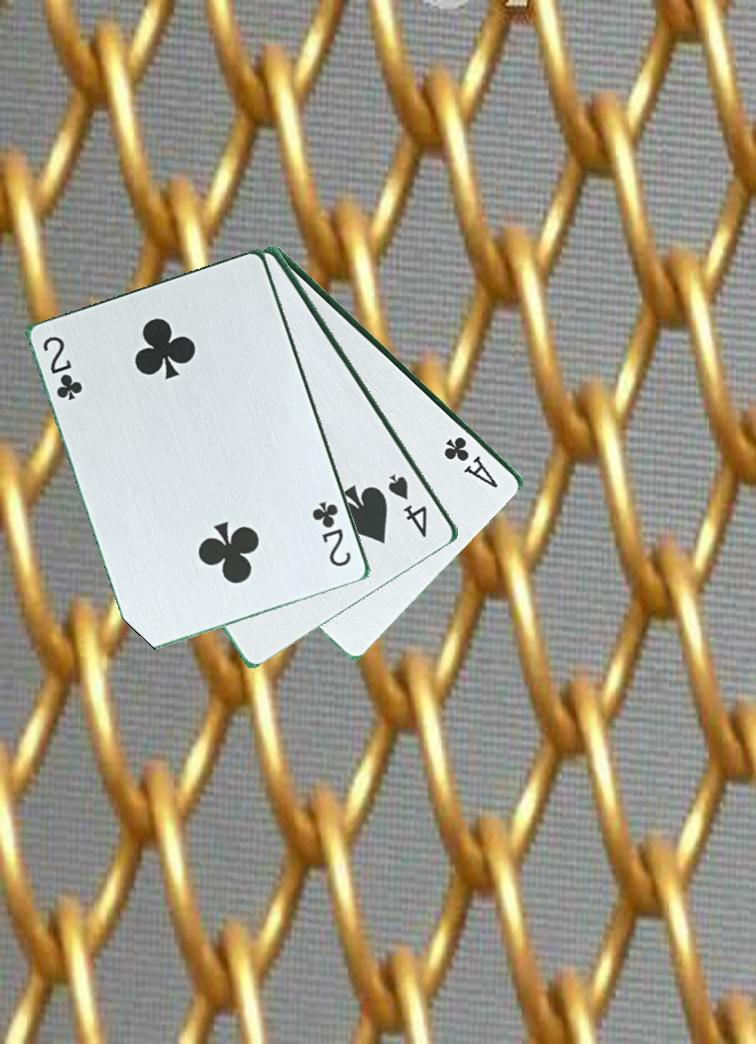2c: (39, 333, 86, 404), (311, 498, 355, 570)
4s: (385, 470, 431, 541)
ac: (442, 433, 502, 491)
